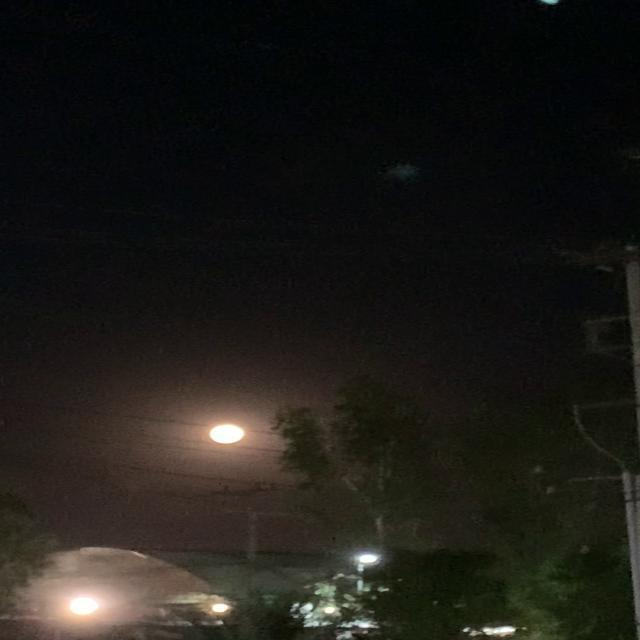moon: (202, 421, 245, 445)
